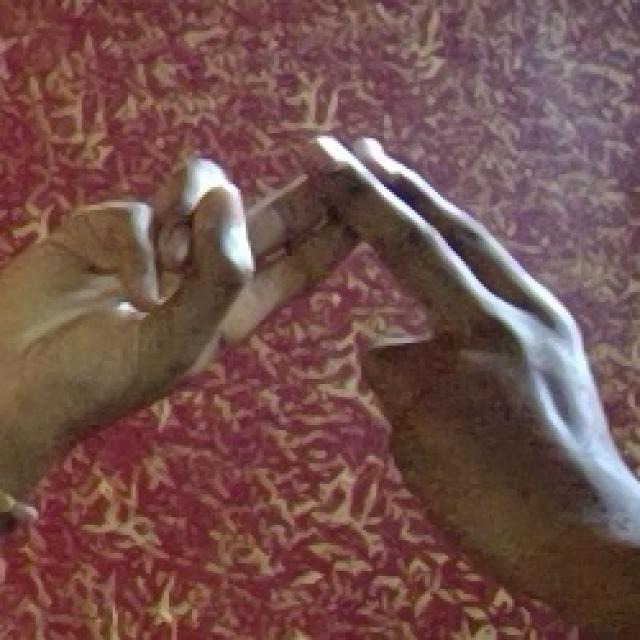Alphabet-F: (13, 133, 593, 534)
